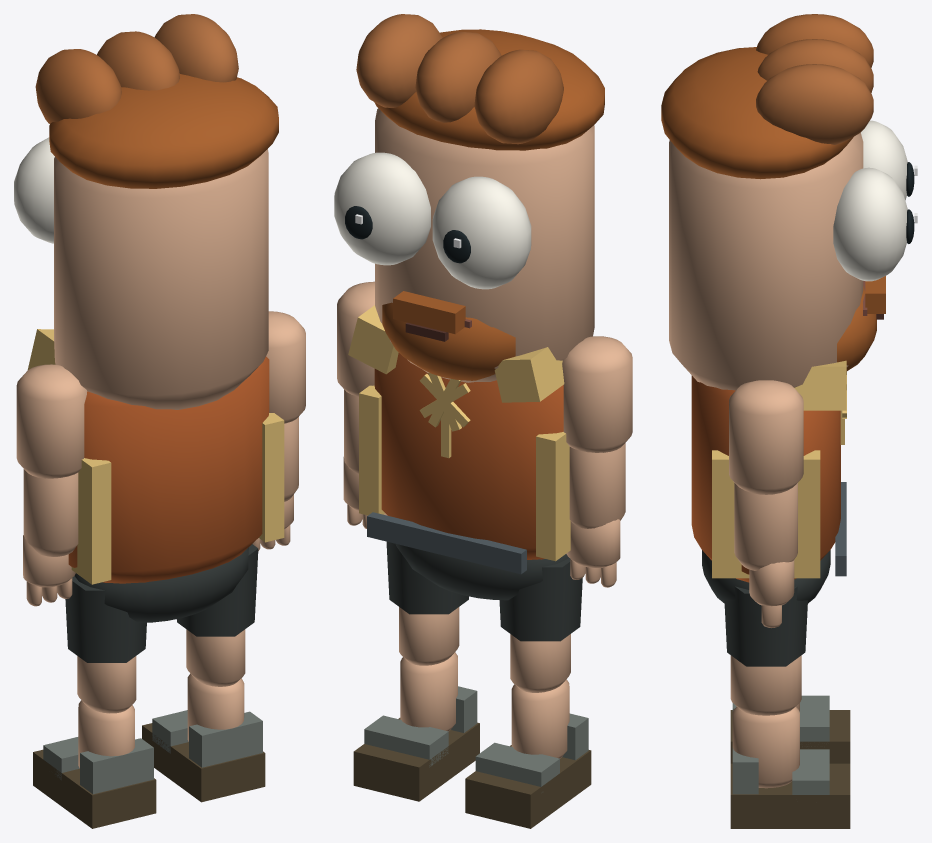
File: spectator_2.glb
3 renders of one model, left to right at view 1: azimuth 30°, elevation 25°; view 2: azimuth 150°, elevation 25°; view 3: azimuth 270°, elevation 25°, orthographic. The views are drawn at different scales.
Parts seen in each view (by area): view 1: Head, RallySpectator, LeftShin, RightShin, LeftLeg, LeftArm, LeftForearm, RightLeg, RightArm, RightForearm; view 2: Head, RallySpectator, LeftShin, RightShin, LeftLeg, LeftArm, LeftForearm, RightLeg, RightArm, RightForearm; view 3: Head, RallySpectator, RightShin, RightLeg, RightArm, RightForearm, LeftShin.
Part boxes in pixels (box(x1,y1,x2,y2)): Head: box(14, 14, 278, 409); RallySpectator: box(27, 329, 284, 622); LeftShin: box(33, 700, 156, 828); RightShin: box(142, 673, 265, 802); LeftLeg: box(65, 576, 146, 713); LeftArm: box(16, 364, 87, 478); LeftForearm: box(23, 469, 78, 606); RightLeg: box(176, 544, 258, 686); RightArm: box(266, 311, 305, 423); RightForearm: box(252, 417, 298, 550); Head: box(334, 14, 604, 382); RallySpectator: box(348, 305, 570, 600); LeftShin: box(465, 679, 591, 828); RightShin: box(353, 652, 479, 801); LeftLeg: box(499, 558, 582, 692); LeftArm: box(562, 336, 632, 452); LeftForearm: box(566, 443, 625, 587); RightLeg: box(386, 541, 468, 665); RightArm: box(337, 281, 374, 396); RightForearm: box(343, 389, 387, 528); Head: box(661, 14, 917, 390); RallySpectator: box(691, 360, 846, 603); RightShin: box(730, 706, 850, 828); RightLeg: box(724, 586, 807, 715); RightArm: box(729, 380, 803, 494); RightForearm: box(734, 483, 797, 627); LeftShin: box(730, 695, 850, 763).
Size of the model in its own units: 0.87 by 2.21 by 0.6864.
